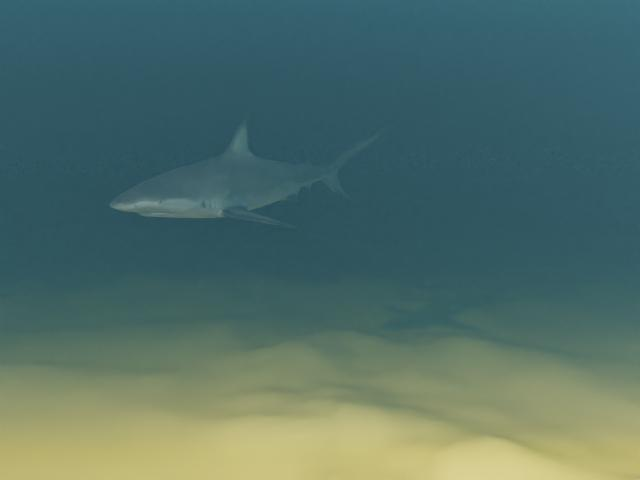Carribean Shark.001: (109, 119, 392, 228)
